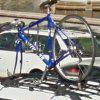Bicycle: (4, 10, 96, 89)
